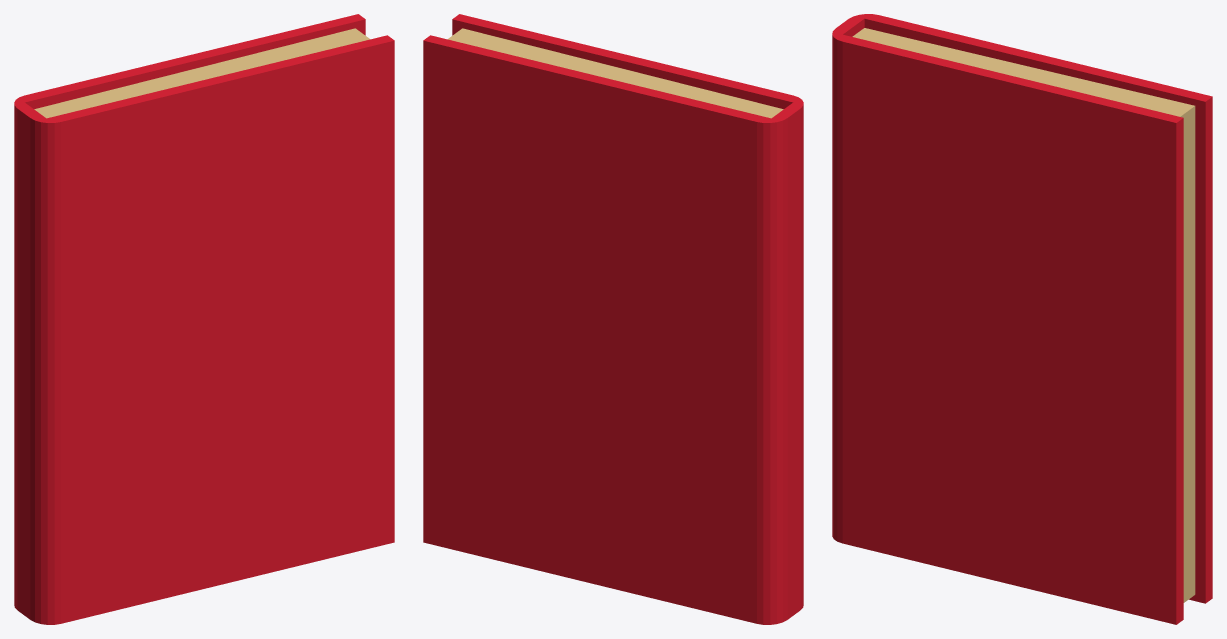
The model's file is книга2.fbx.
3 views of the same model, side by side, from view 1: azimuth 30°, elevation 25°; view 2: azimuth 150°, elevation 25°; view 3: azimuth 330°, elevation 25° (orthographic).
Parts seen in each view (by area): view 1: Cube.085; view 2: Cube.085; view 3: Cube.085.
Part boxes in pixels (box(x1,y1,x2,y2)): Cube.085: box(14, 14, 394, 624); Cube.085: box(423, 14, 803, 624); Cube.085: box(832, 14, 1212, 624).
Size of the model in its own units: 74.78 by 102 by 13.33.
